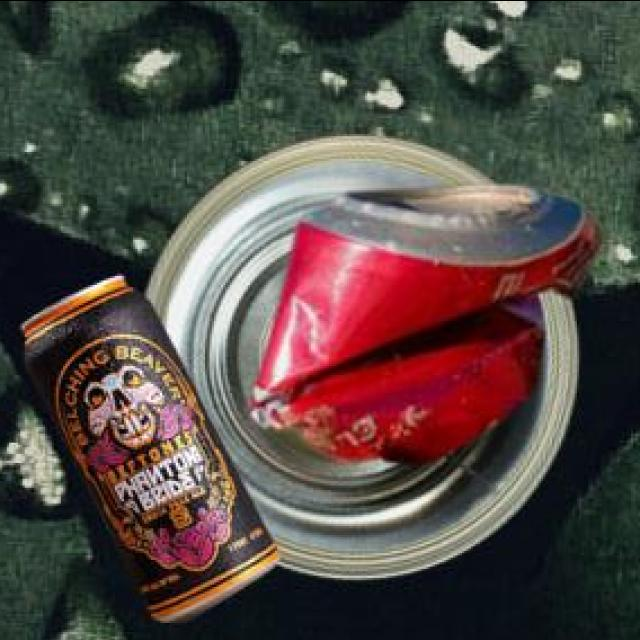logam: (141, 136, 576, 580), (247, 188, 598, 465), (19, 278, 276, 625)
